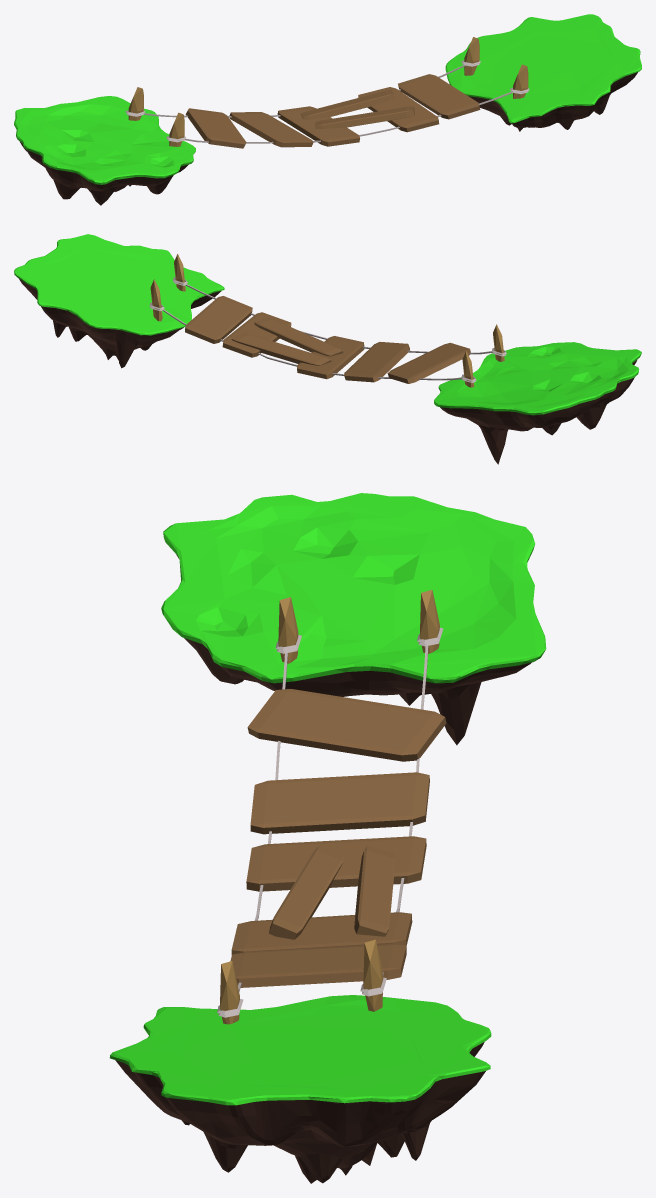
Rendered from Tronco2.fbx.
3 views of the same model, one above another, from view 1: azimuth 30°, elevation 25°; view 2: azimuth 150°, elevation 25°; view 3: azimuth 270°, elevation 25° (orthographic). The views are drawn at different scales.
Visible parts, largest first — view 1: tronco2; view 2: tronco2; view 3: tronco2.
Boxes of the visible parts, x1,y1,x2,y2 form: tronco2: (14,14,641,205); tronco2: (14,234,641,464); tronco2: (109,493,546,1183).
Bounding box in the file's own units: 1831 × 352 × 594.
